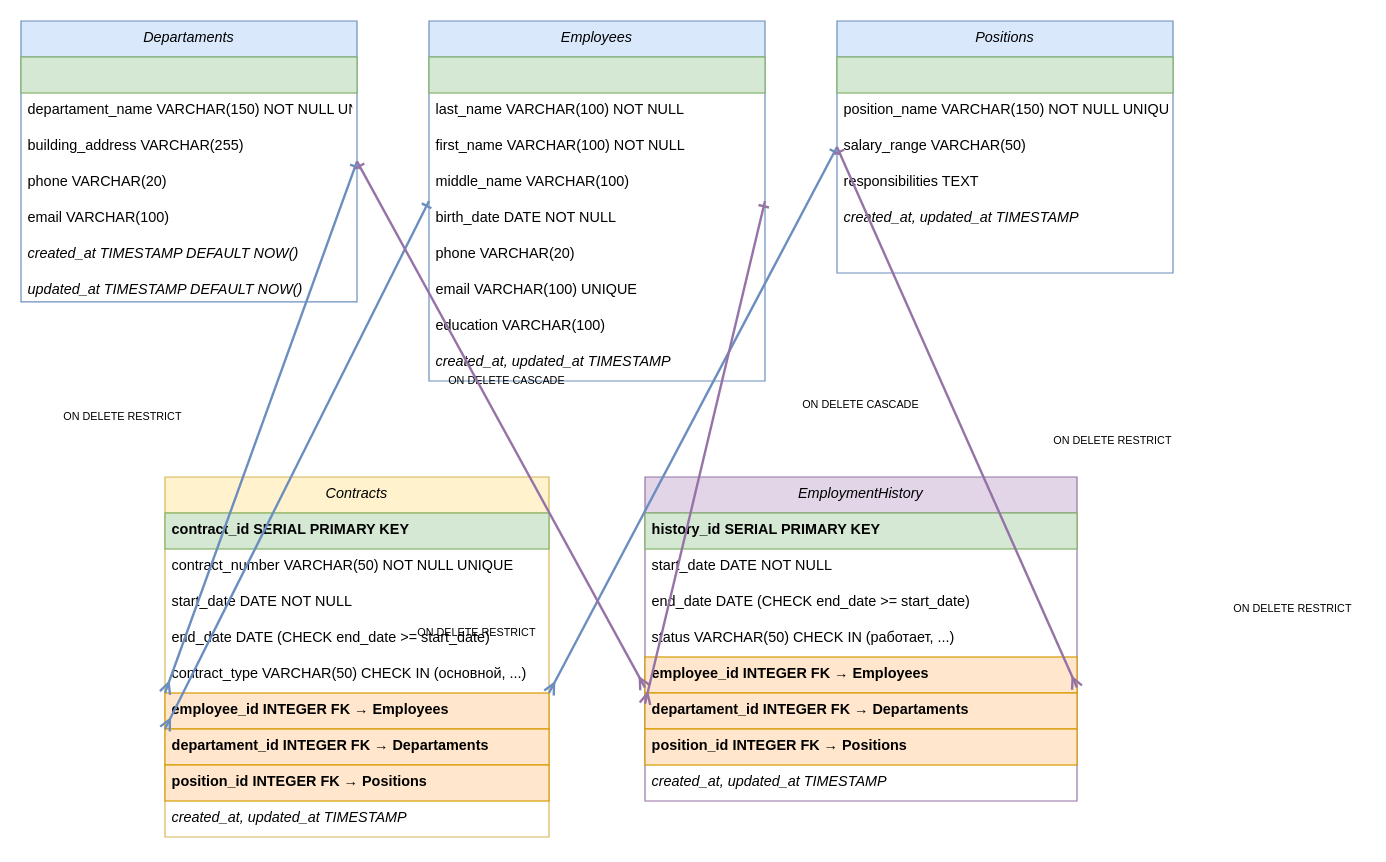
The diagram is 1386 pixels wide and 862 high, and some of its shapes have lost their labels. Here are the shapes that lost their labels. From the top down, the centre of each, then its label:
At point (188, 74): "departament_id SERIAL PRIMARY KEY".
At point (596, 74): "employee_id SERIAL PRIMARY KEY".
At point (1004, 74): "position_id SERIAL PRIMARY KEY".
